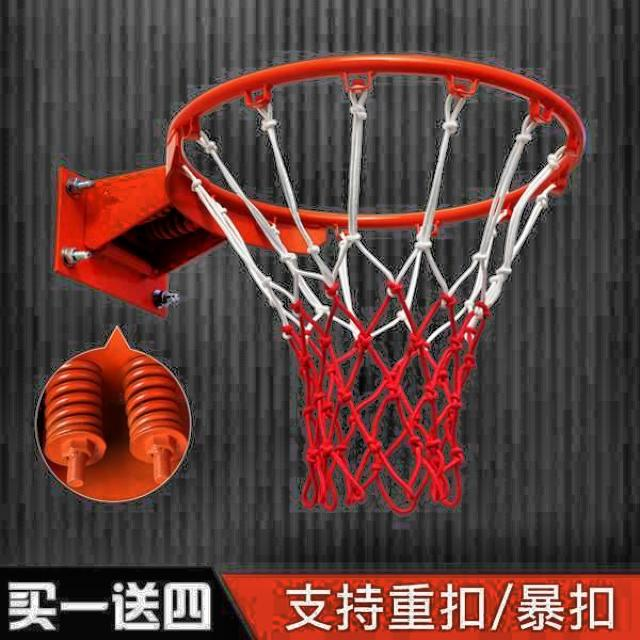rim: (176, 53, 585, 511)
